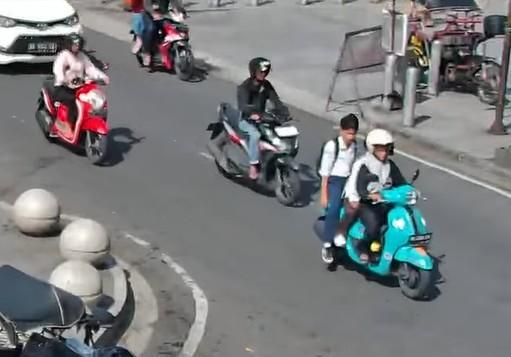Helmet: (365, 128, 393, 153), (248, 57, 270, 76), (67, 33, 84, 50)
Number Plate: (27, 42, 57, 53), (410, 233, 432, 245), (274, 126, 298, 136)
